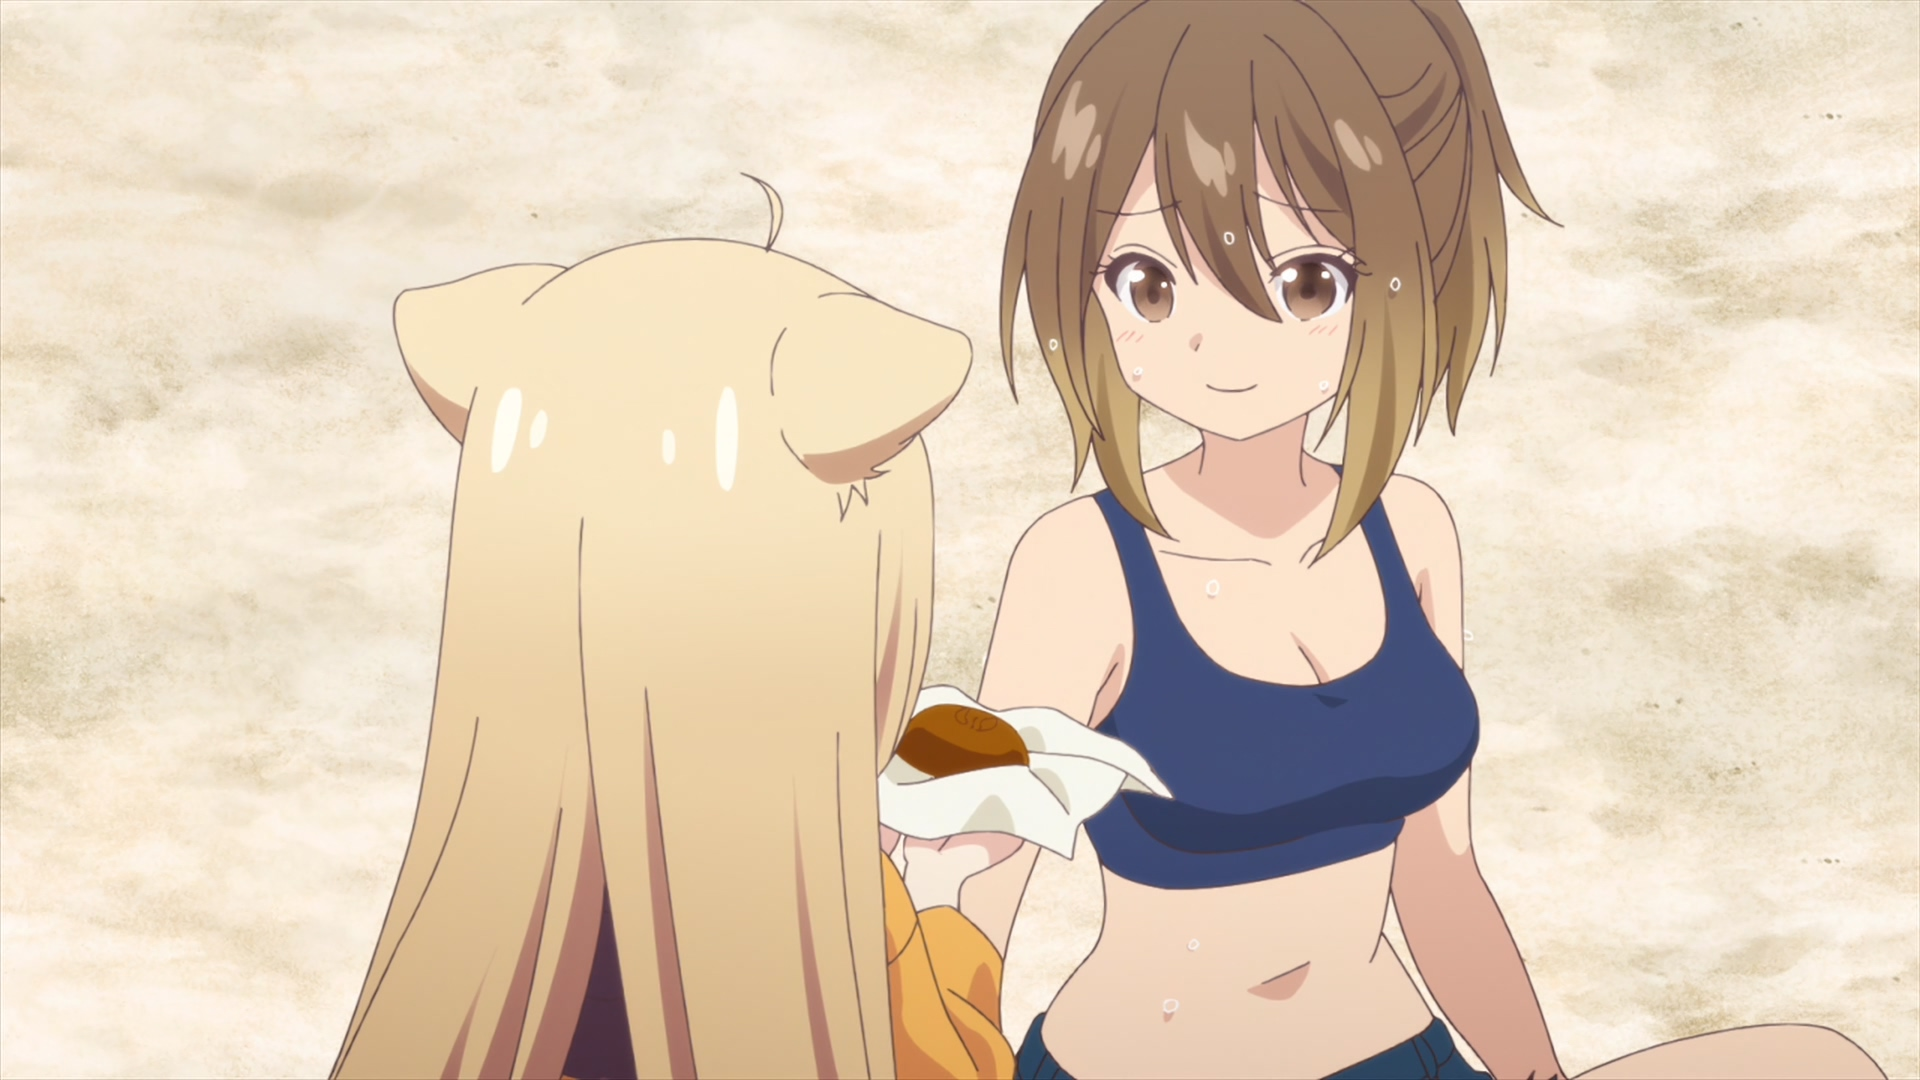其他: (960, 1, 1884, 1080)
柚: (330, 171, 1023, 1080)
